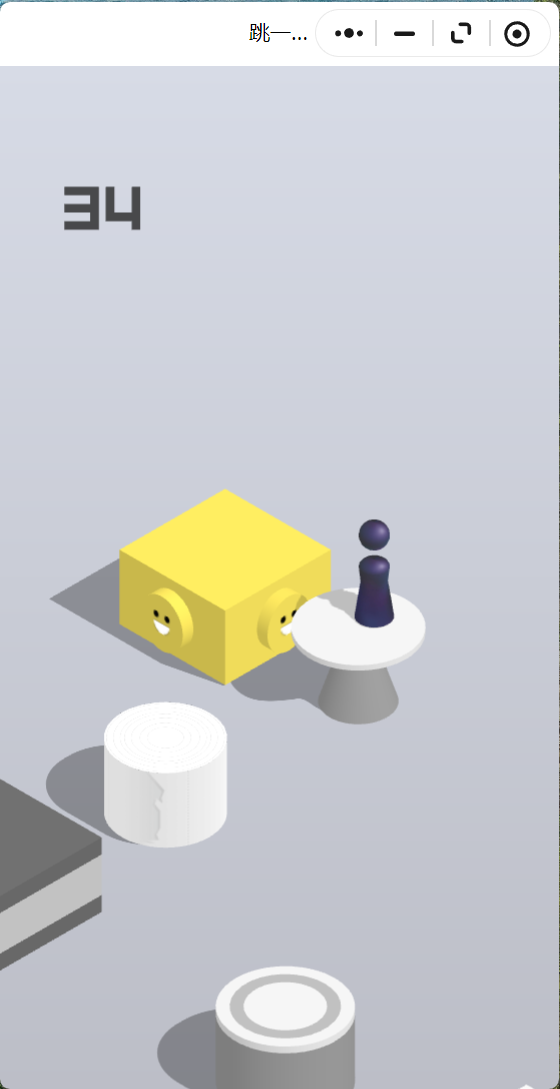piece: (358, 519, 389, 624)
target: (119, 488, 330, 611)
